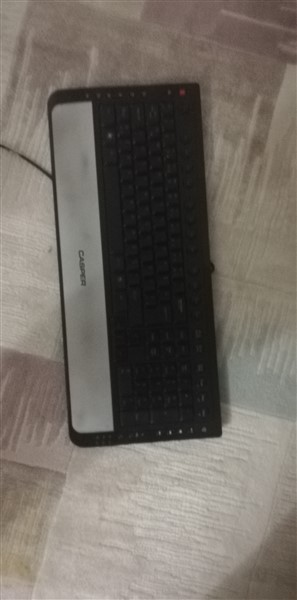klavye: (47, 79, 228, 446)
